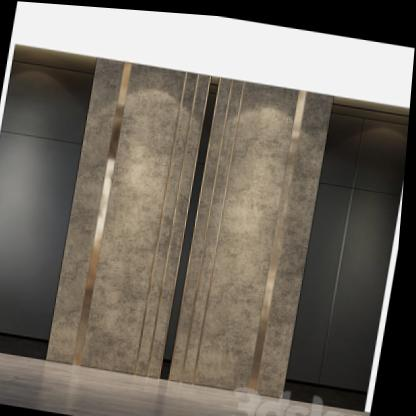Wall Panel: (0, 40, 413, 405)
